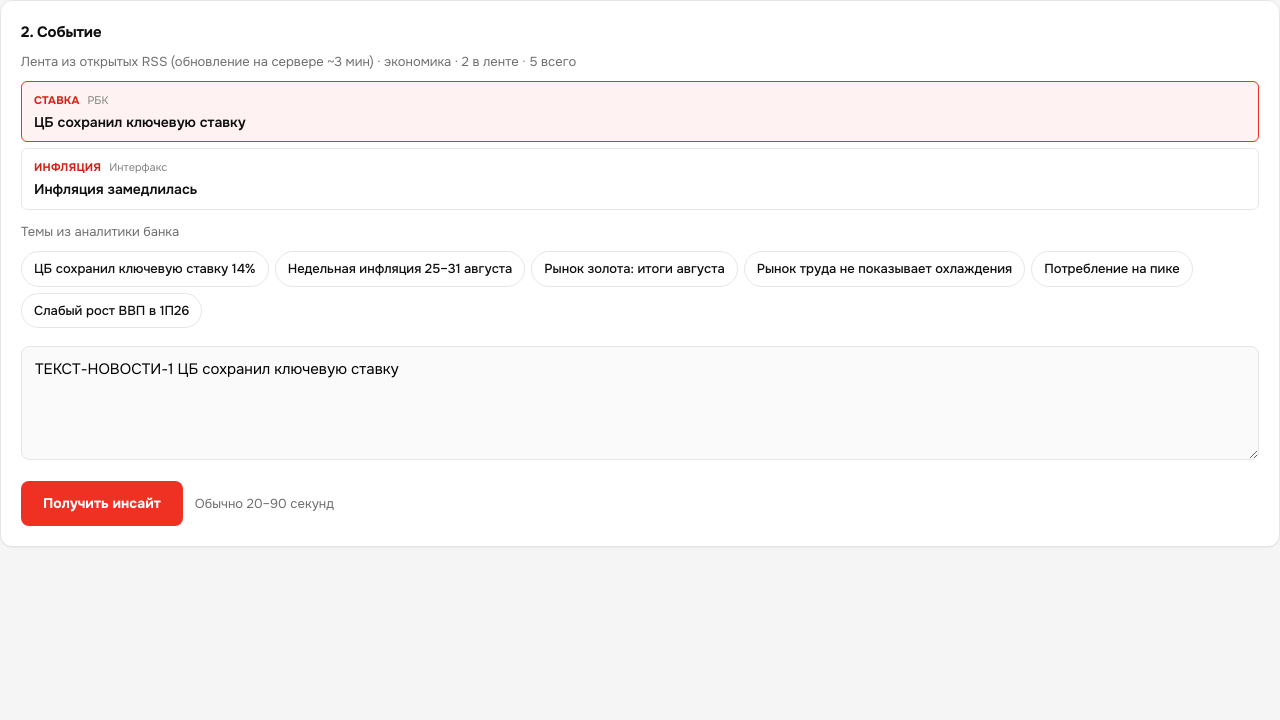
Test: EventPicker › puts the text of a bank topic into the field
Click the button "Рынок золота: итоги августа" at coordinates (634, 269), box top-left (531, 251), bottom-right (738, 287)
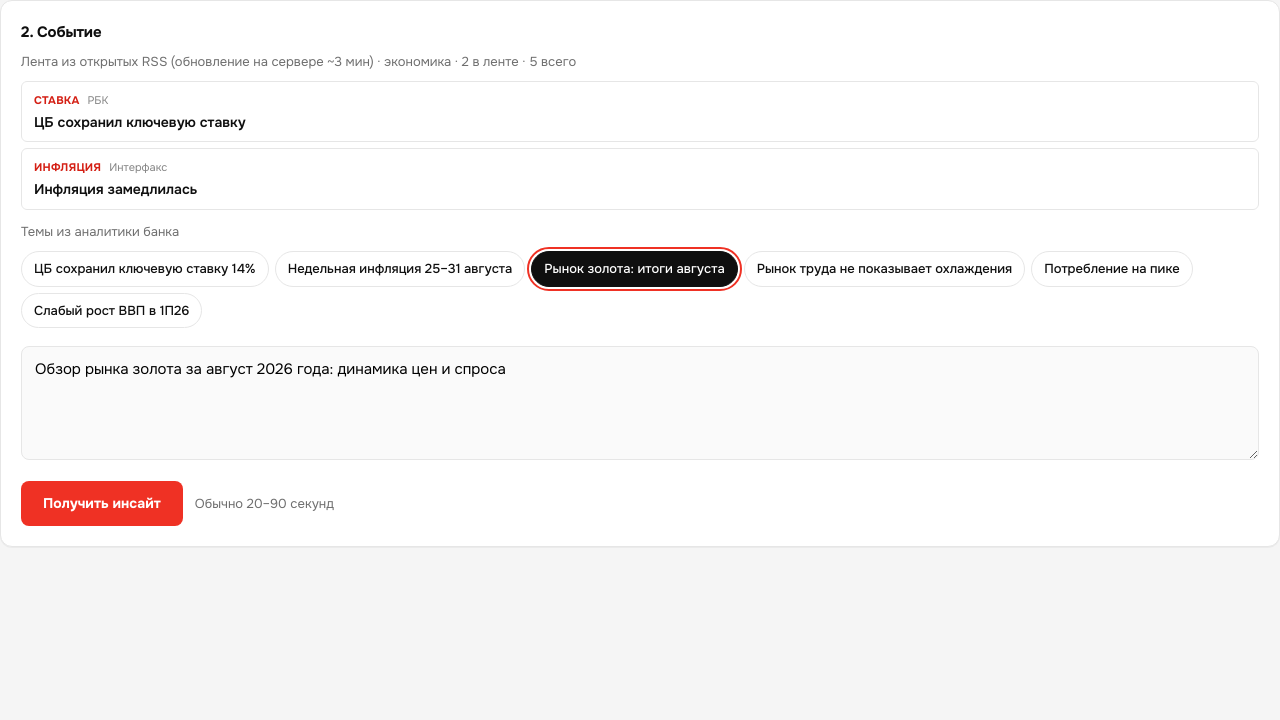
Now the text box holds "Обзор рынка золота за август 2026 года: динамика цен и спроса", box top-left (21, 346), bottom-right (1259, 460)
